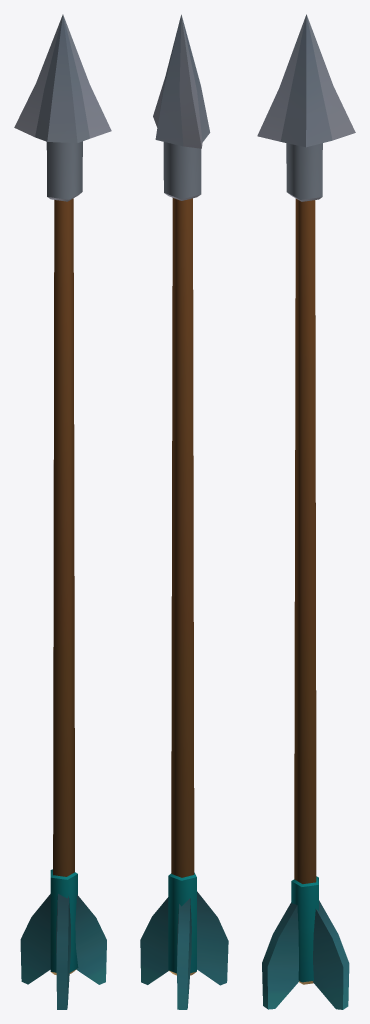
The model's file is Arrow_1_A.glb.
3 renders of one model, left to right at view 1: azimuth 90°, elevation 25°; view 2: azimuth 210°, elevation 25°; view 3: azimuth 270°, elevation 25°, orthographic.
Visible parts, largest first — view 1: Arrow_1_A; view 2: Arrow_1_A; view 3: Arrow_1_A.
Boxes of the visible parts, bbox=[...] form: Arrow_1_A: bbox=[14, 14, 111, 1009]; Arrow_1_A: bbox=[140, 14, 228, 1009]; Arrow_1_A: bbox=[257, 14, 355, 1009].
Bounding box in the file's own units: 0.0754 × 1.01 × 0.0913.
Materials: 2 (2 with a texture image).
